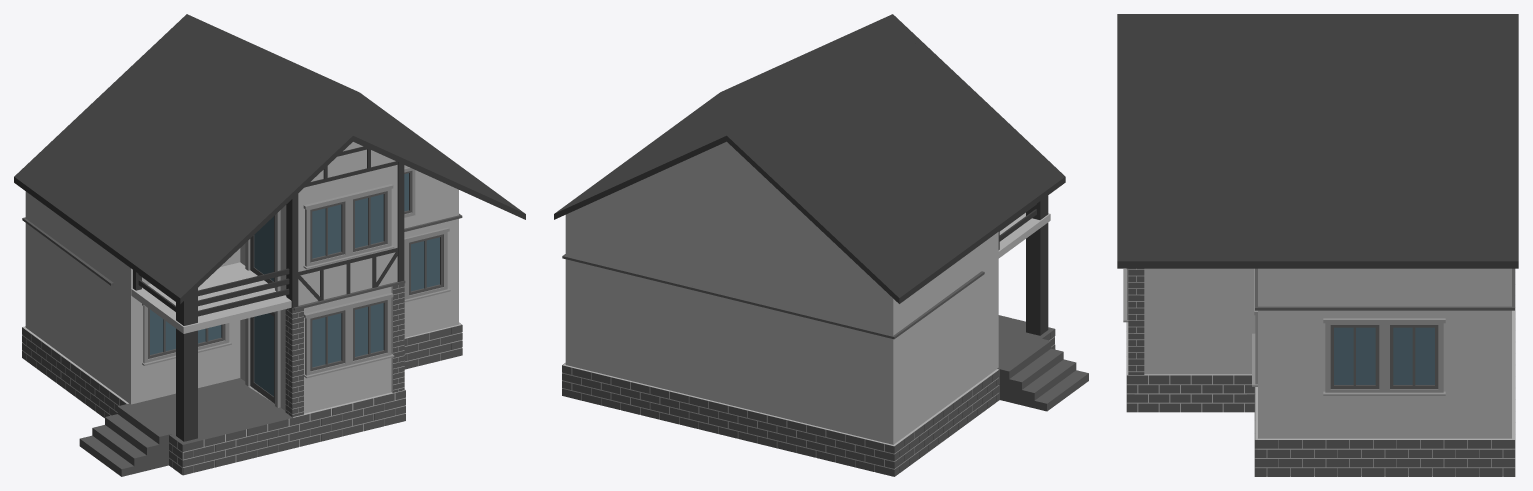
File: house_011.glb
3 views of the same model, side by side, from view 1: azimuth 30°, elevation 25°; view 2: azimuth 150°, elevation 25°; view 3: azimuth 270°, elevation 25° (orthographic). The views are drawn at different scales.
Parts seen in each view (by area): view 1: house_011; view 2: house_011; view 3: house_011.
Boxes of the visible parts, left/top/right/bottom form: house_011: left=14, top=14, right=525, bottom=476; house_011: left=554, top=14, right=1088, bottom=476; house_011: left=1117, top=14, right=1518, bottom=476.
Bounding box in the file's own units: 11.66 × 8.7 × 8.68.
Materials: 1 (1 with a texture image).
